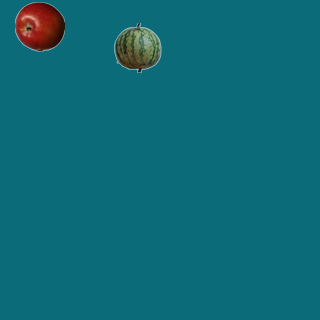Apple Braeburn: (14, 1, 64, 51)
Watermelon: (112, 22, 162, 72)
